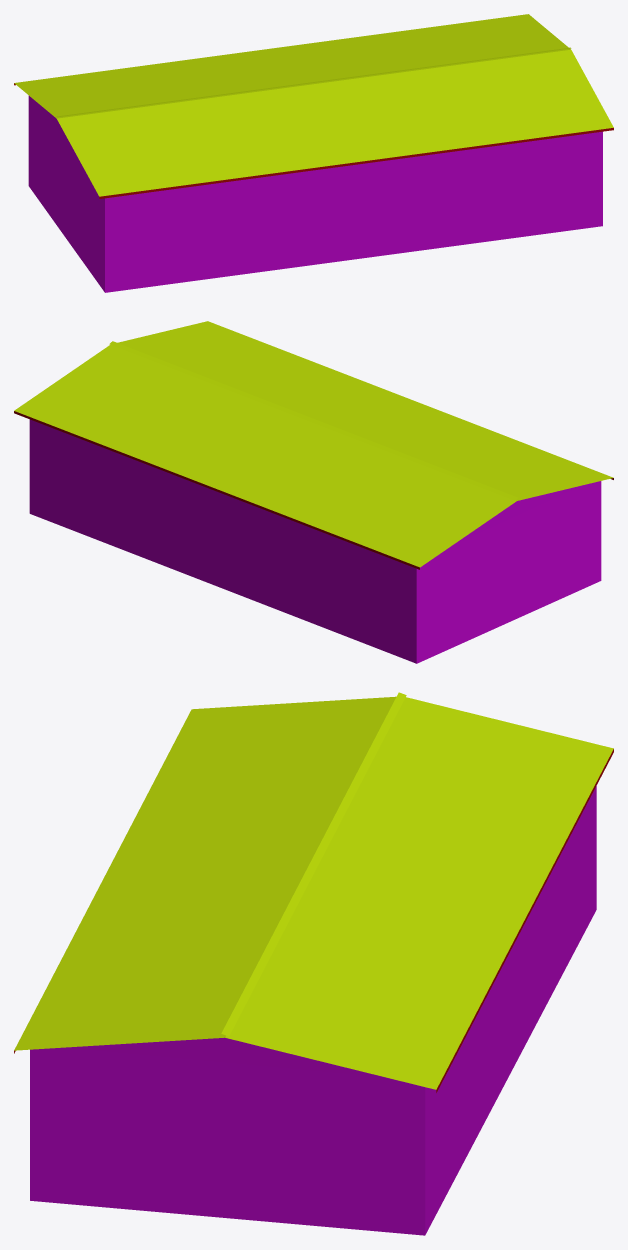
The model's file is svc_28.glb.
3 views of the same model, one above another, from view 1: azimuth 30°, elevation 25°; view 2: azimuth 150°, elevation 25°; view 3: azimuth 270°, elevation 25° (orthographic). The views are drawn at different scales.
Visible parts, largest first — view 1: svc_28; view 2: svc_28; view 3: svc_28.
Boxes of the visible parts, <box> form: svc_28: <box>14,14,613,292</box>; svc_28: <box>14,321,613,663</box>; svc_28: <box>14,692,613,1235</box>.
Bounding box in the file's own units: 26.76 × 6.25 × 17.83.
